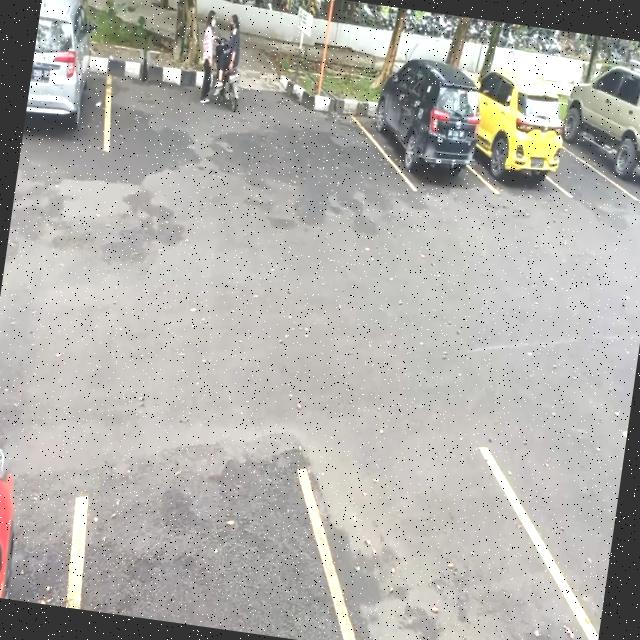empty: (64, 392, 391, 640), (313, 413, 619, 640)
occupied: (367, 76, 488, 200), (21, 19, 120, 154), (468, 96, 568, 204), (560, 71, 640, 188)
